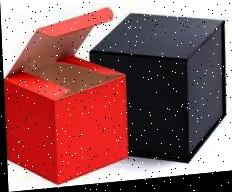cube: (103, 7, 230, 170), (2, 55, 128, 188)
